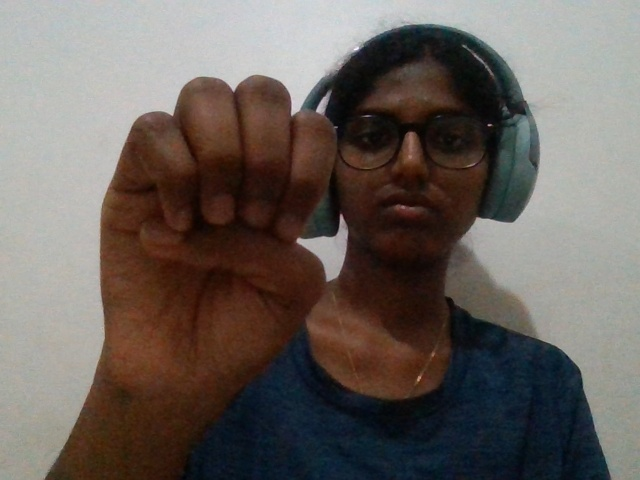E: (58, 47, 379, 471)
